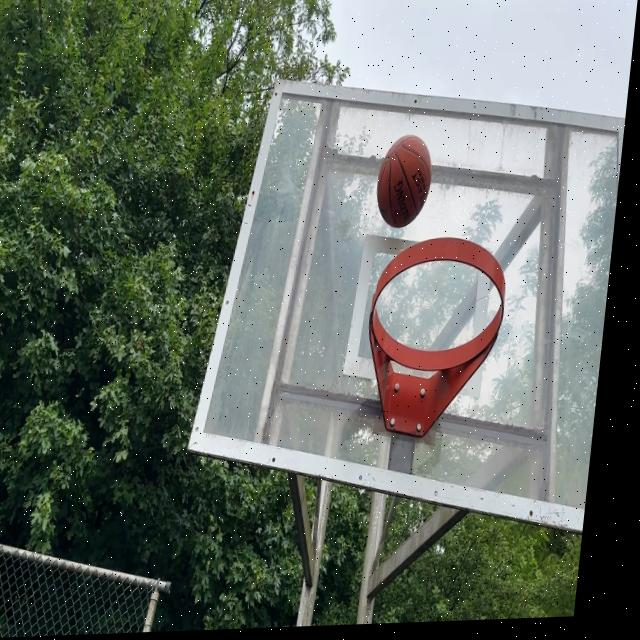Basketball: (374, 137, 437, 232)
